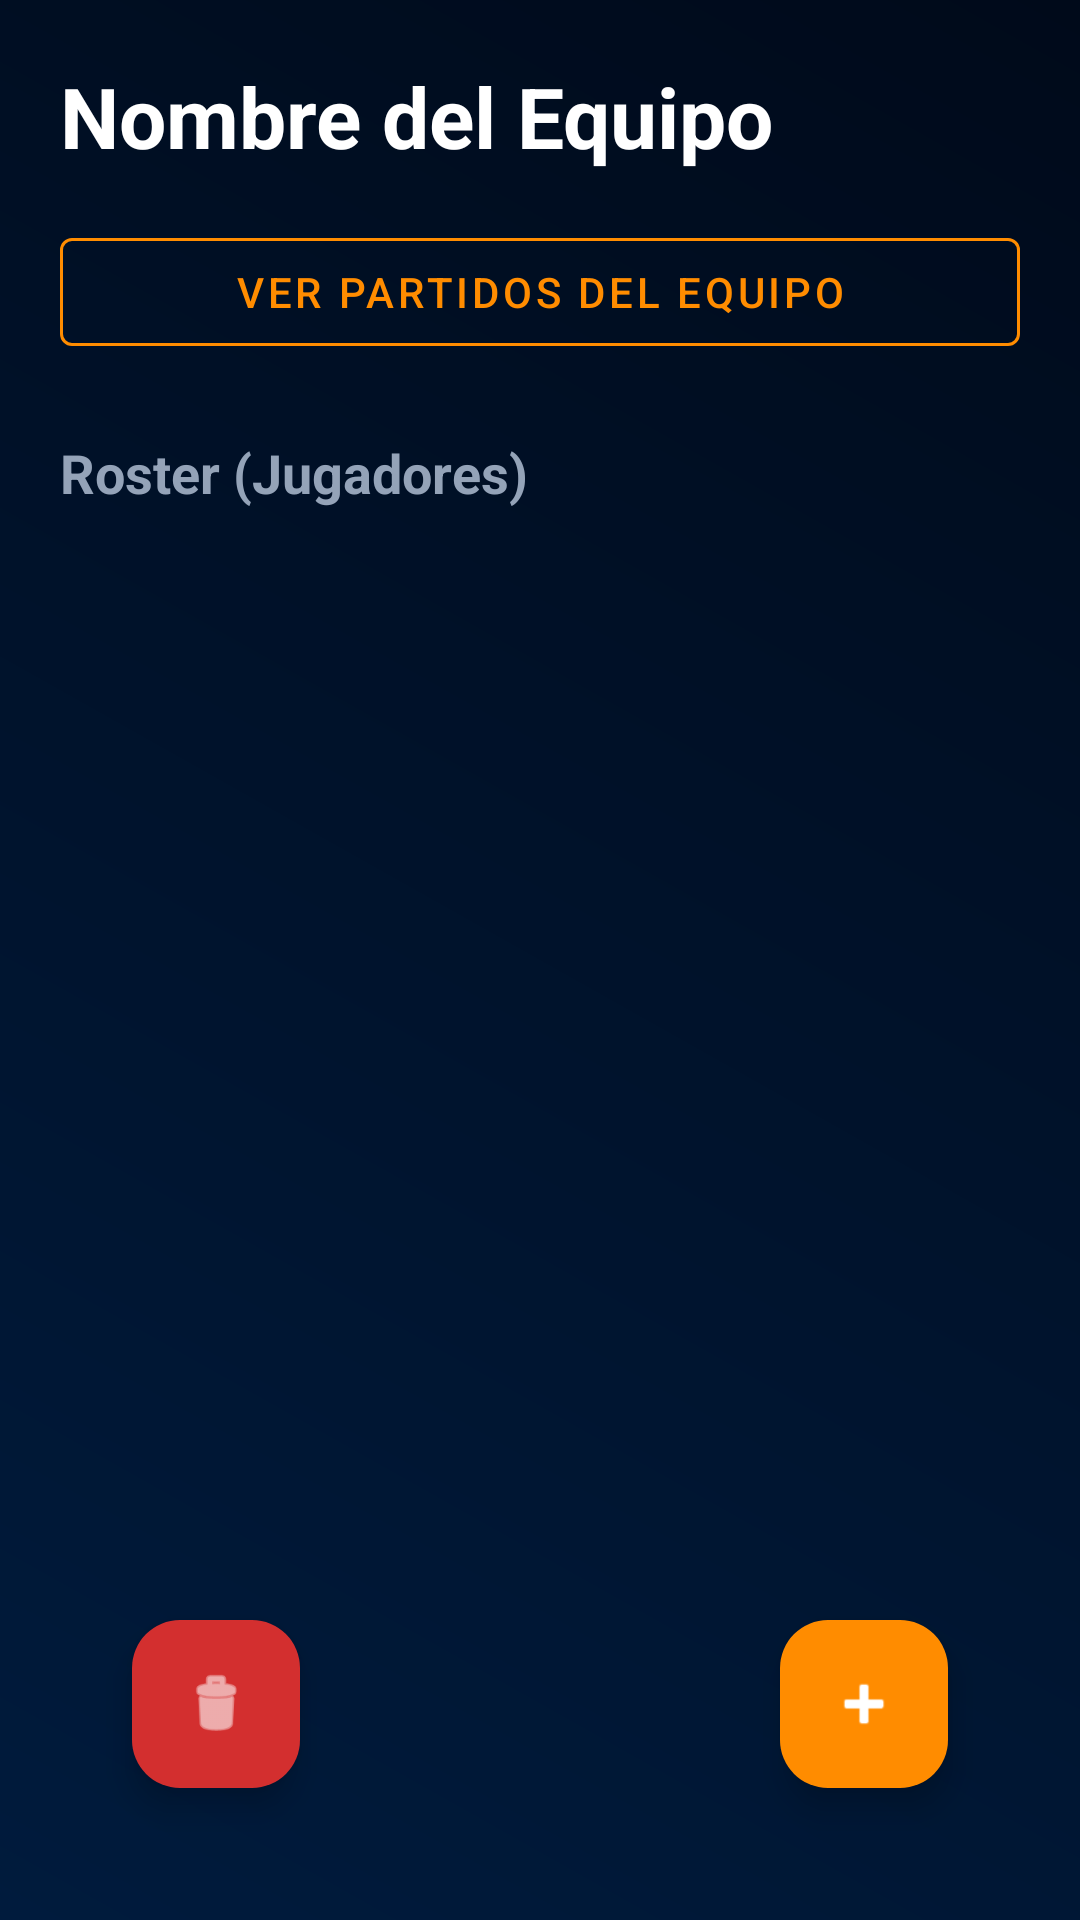

Named icons in this screenshot (1080w x 1920h) and their bounding boxes, region(x1, y1, x2, y2):
add: region(780, 1620, 948, 1788)
delete: region(132, 1620, 300, 1788)
